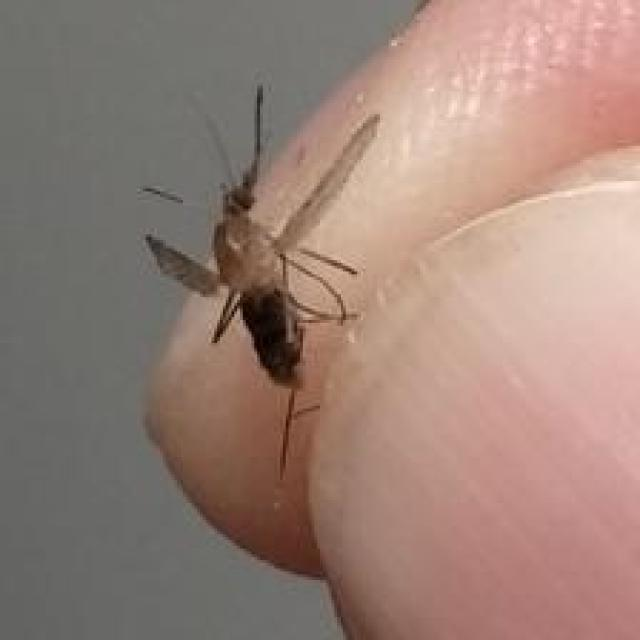Culex: (137, 81, 383, 478)
